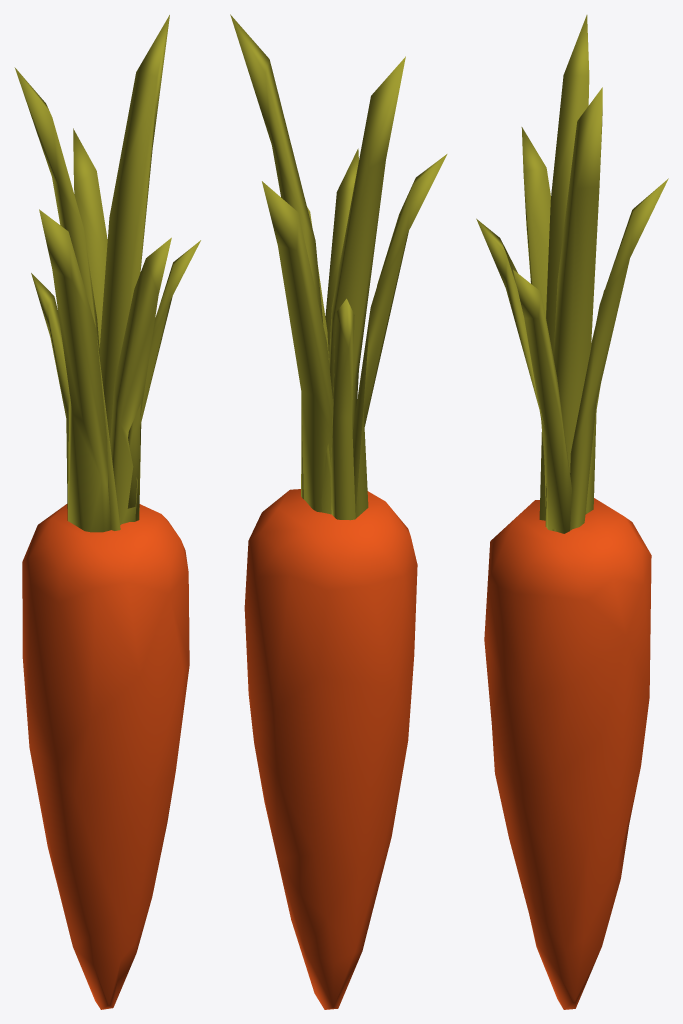
Rendered from carrot_plant.glb.
The picture shows the model from 3 angles, left to right: view 1: azimuth 30°, elevation 25°; view 2: azimuth 150°, elevation 25°; view 3: azimuth 270°, elevation 25°; orthographic projection. The views are drawn at different scales.
Visible parts, largest first — view 1: carrot_plant; view 2: carrot_plant; view 3: carrot_plant.
Boxes of the visible parts, bbox=[...] form: carrot_plant: bbox=[14, 15, 200, 1009]; carrot_plant: bbox=[230, 14, 447, 1009]; carrot_plant: bbox=[476, 15, 668, 1009].
Bounding box in the file's own units: 0.1842 × 0.9857 × 0.1793.
